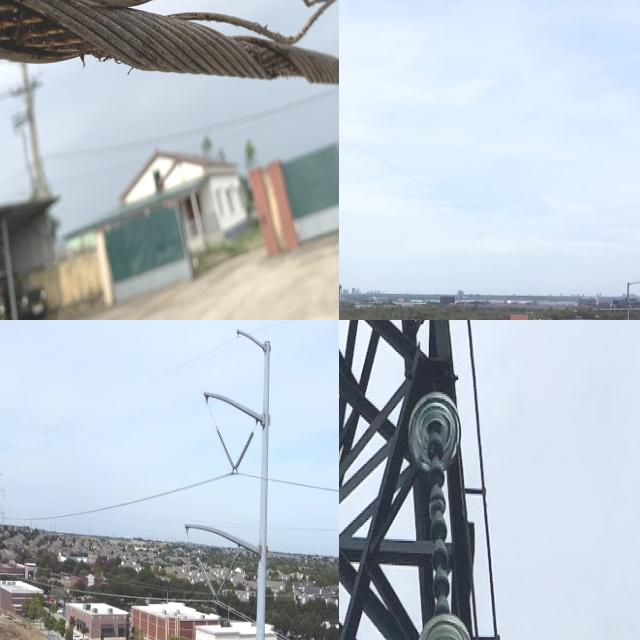杆塔: (339, 320, 537, 640), (0, 458, 7, 592)
正常绝缘子: (408, 389, 473, 640), (189, 536, 223, 607), (207, 411, 240, 484), (209, 544, 243, 614), (226, 425, 261, 490)
电缆破损: (0, 0, 339, 90)
绝缘子破损: (426, 488, 448, 520), (425, 460, 447, 490), (425, 436, 447, 465), (429, 516, 449, 545), (431, 575, 451, 603), (429, 547, 450, 573)
